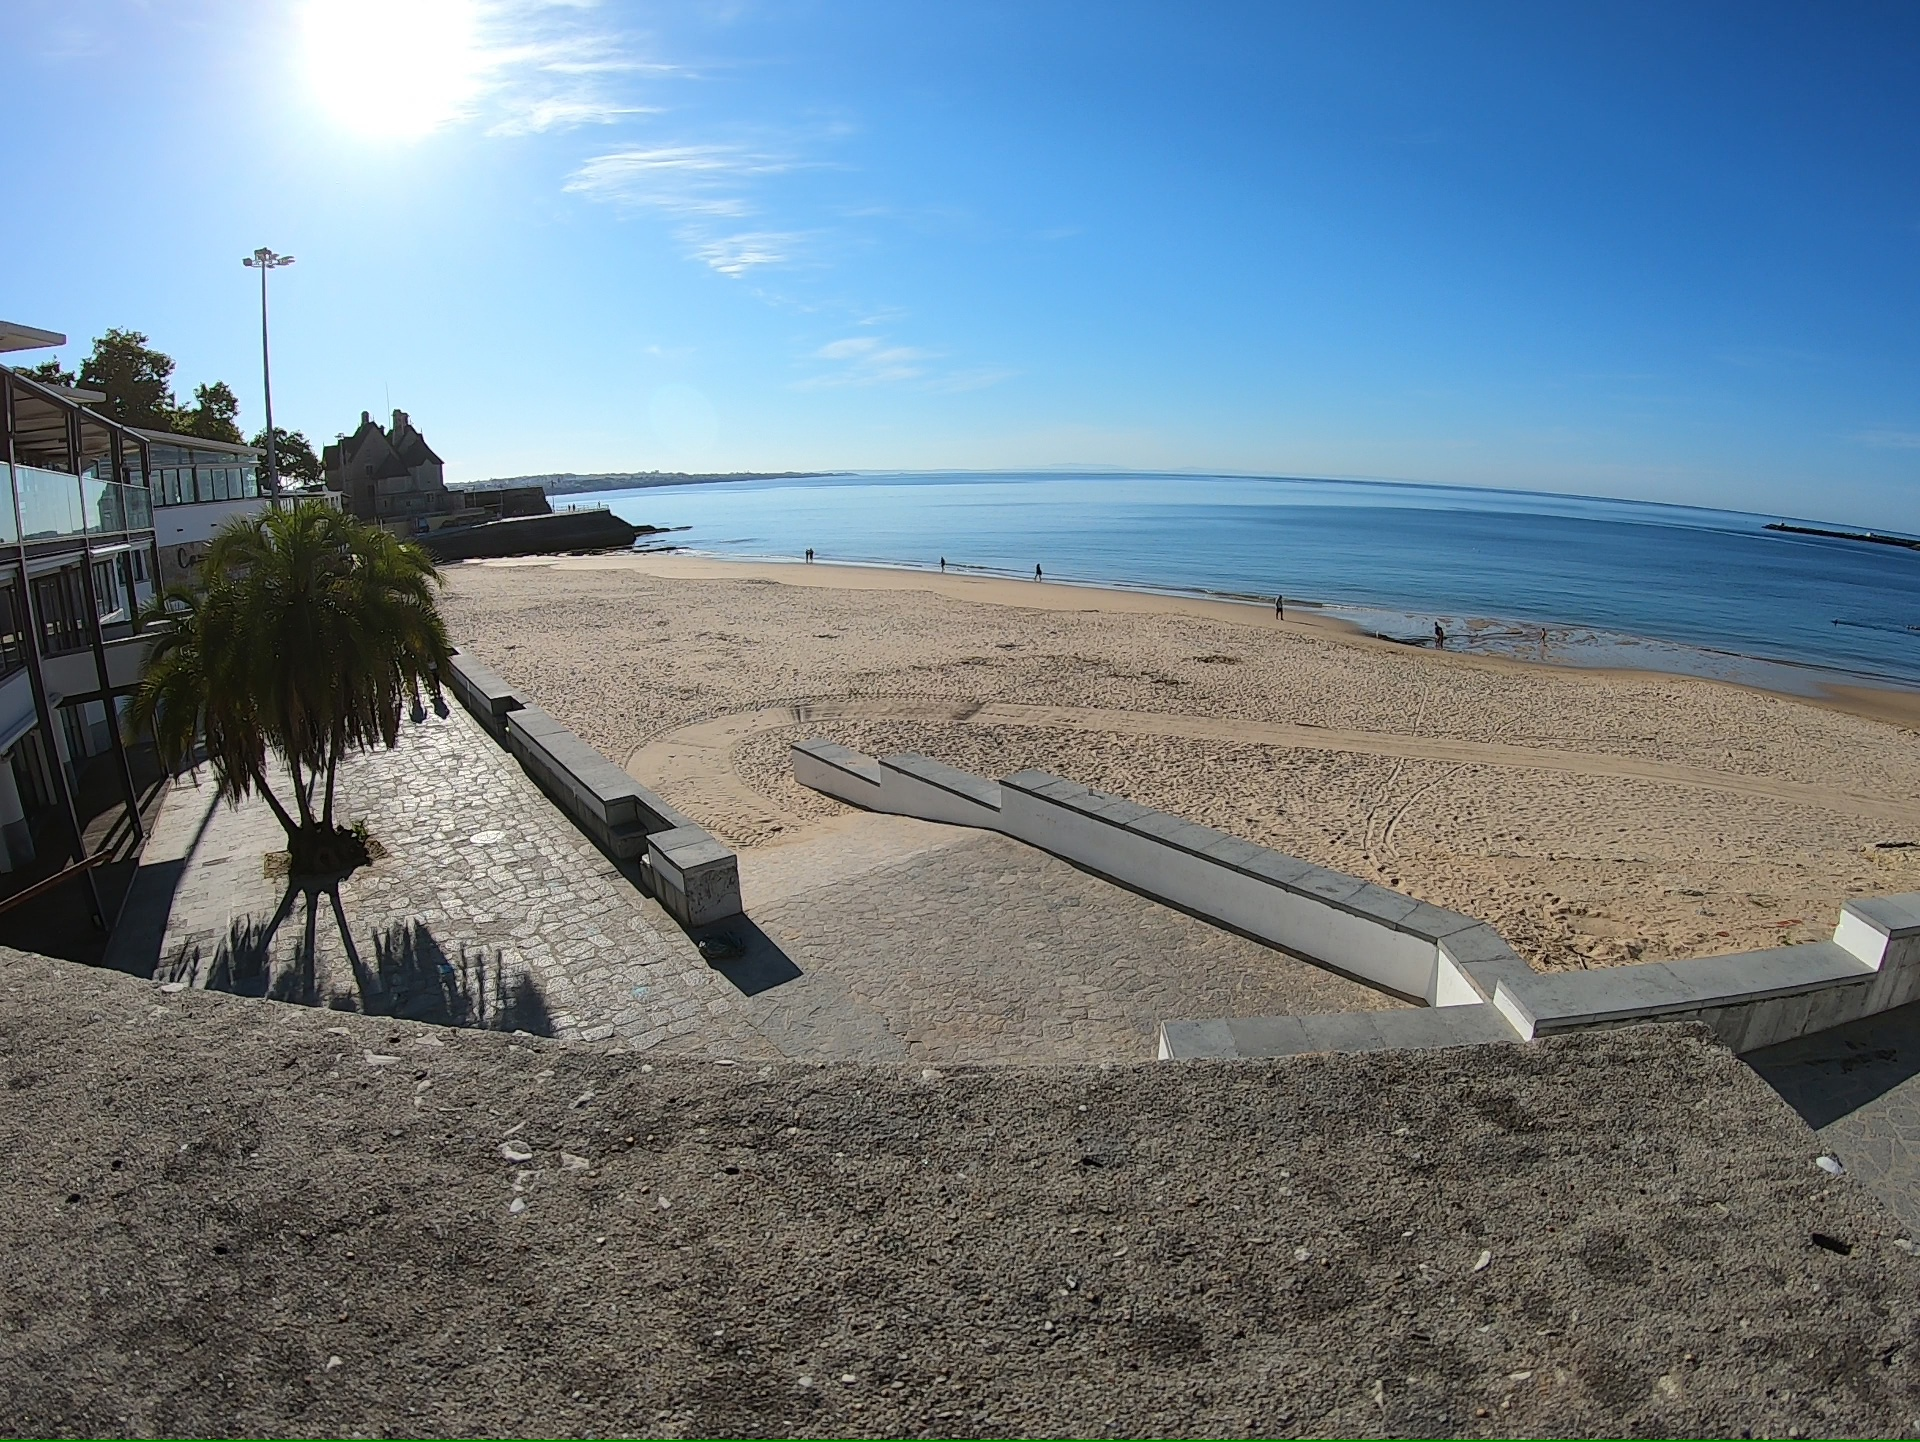person: (1432, 621, 1446, 649), (1273, 593, 1286, 621), (804, 546, 814, 566), (1034, 561, 1043, 582), (1539, 626, 1547, 644), (939, 554, 946, 573)
